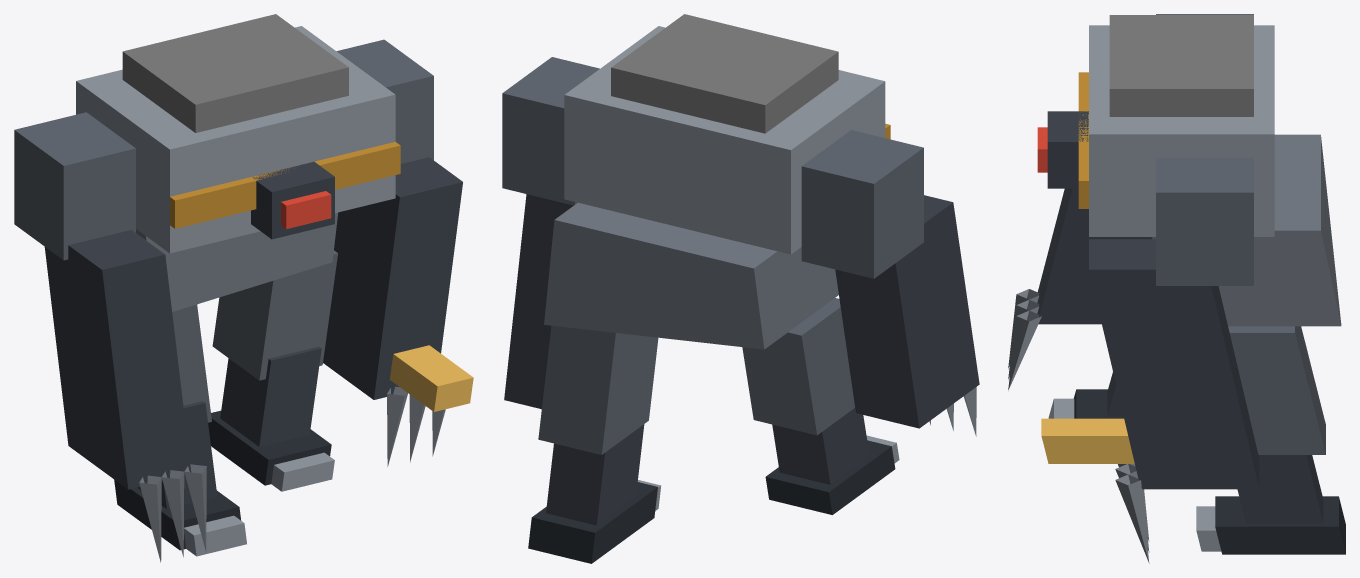
The model's file is wrecker-walk-5.obj.
3 views of the same model, side by side, from view 1: azimuth 30°, elevation 25°; view 2: azimuth 150°, elevation 25°; view 3: azimuth 270°, elevation 25° (orthographic).
Parts seen in each view (by area): view 1: wrecker-walk-5; view 2: wrecker-walk-5; view 3: wrecker-walk-5.
Boxes of the visible parts, <box> form: wrecker-walk-5: <box>14,14,473,562</box>; wrecker-walk-5: <box>502,14,979,563</box>; wrecker-walk-5: <box>1008,14,1345,563</box>.
Size of the model in its own units: 1.67 by 1.92 by 1.31.
